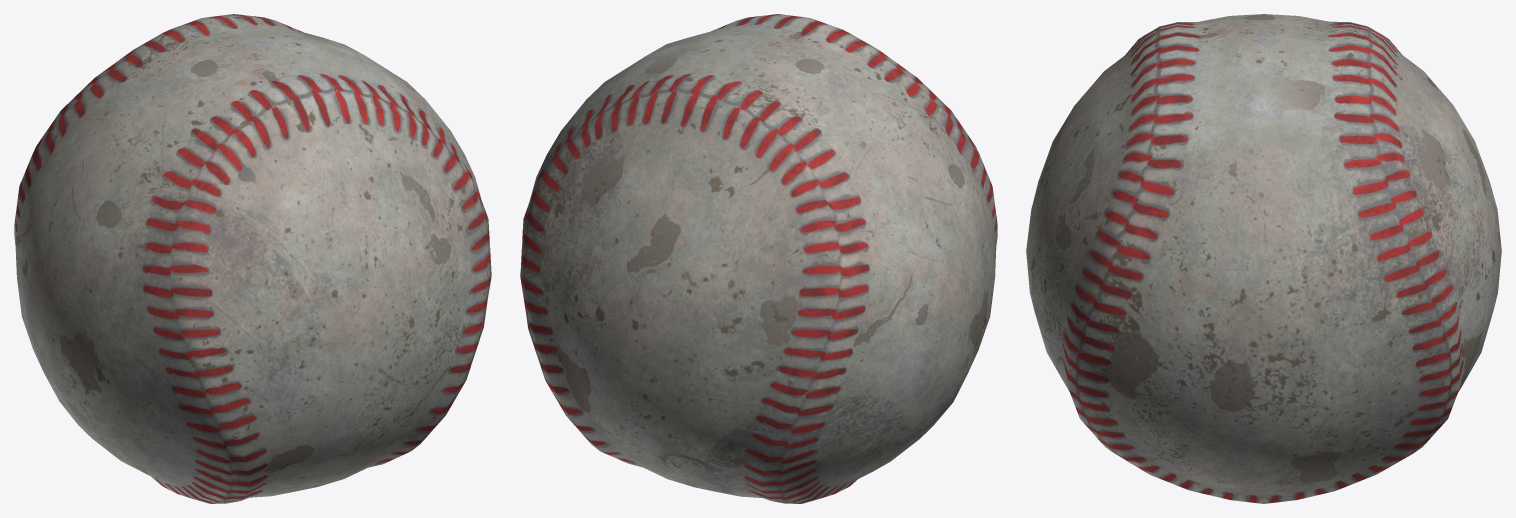
Rendered from old tennis ball.fbx.
The picture shows the model from 3 angles, left to right: view 1: azimuth 30°, elevation 25°; view 2: azimuth 150°, elevation 25°; view 3: azimuth 270°, elevation 25°; orthographic projection.
Parts seen in each view (by area): view 1: old tennis ball; view 2: old tennis ball; view 3: old tennis ball.
Part boxes in pixels (bbox=[...]): old tennis ball: bbox=[14, 14, 491, 503]; old tennis ball: bbox=[520, 14, 997, 503]; old tennis ball: bbox=[1026, 14, 1501, 503].
Size of the model in its own units: 112 by 111 by 110.
1 material, 1 textured.
